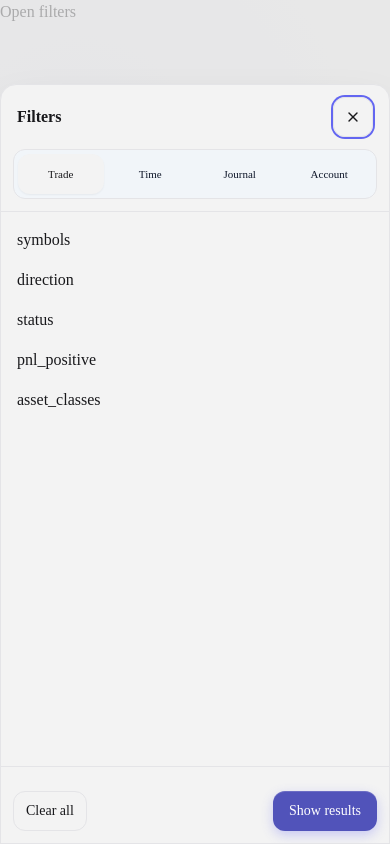
Test case: TradeFilterSheet › renders only the chosen group's fields with linked tab/panel semantics
Click the tab "Time" at (150, 174), box [108,154,193,194]
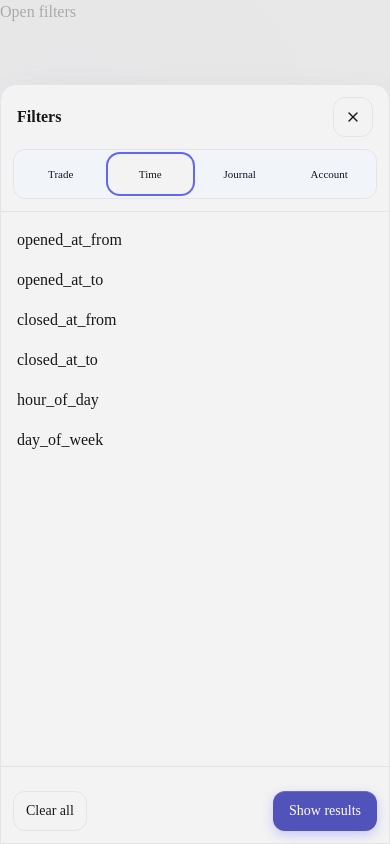
Now the number of panels is 1
Click the tab "Journal" at (240, 174), box [197,154,282,194]
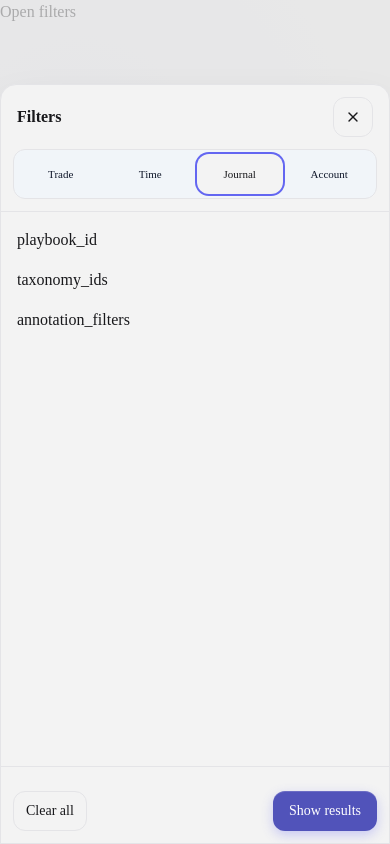
Now the number of panels is 1
Click the tab "Account" at (329, 174), box [286,154,372,194]
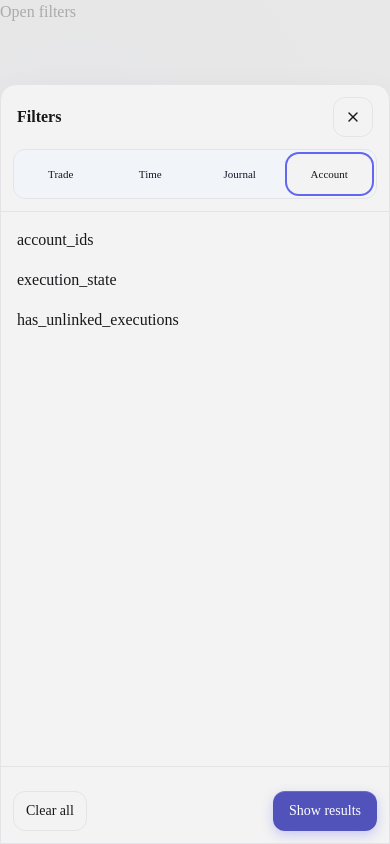
Now the number of panels is 1
Click the tab "Trade" at (61, 174), box [18,154,104,194]
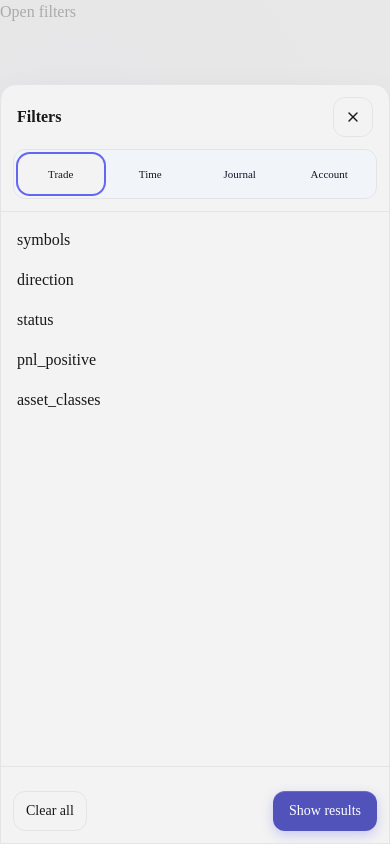
Now the number of panels is 1
